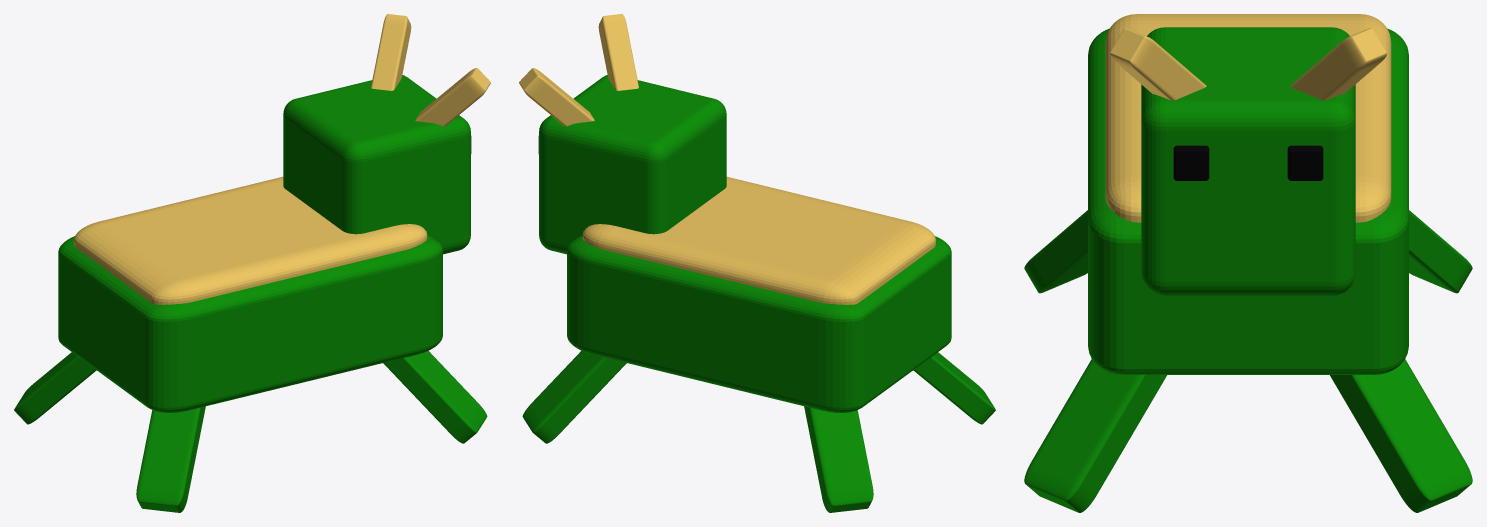
File: Voltick.glb
The picture shows the model from 3 angles, left to right: view 1: azimuth 30°, elevation 25°; view 2: azimuth 150°, elevation 25°; view 3: azimuth 270°, elevation 25°; orthographic projection. The views are drawn at different scales.
Visible parts, largest first — view 1: Voltick; view 2: Voltick; view 3: Voltick.
Boxes of the visible parts, left/top/right/bottom form: Voltick: left=14, top=14, right=490, bottom=512; Voltick: left=519, top=14, right=995, bottom=512; Voltick: left=1024, top=14, right=1472, bottom=512.
Size of the model in its own units: 0.8886 by 0.7651 by 0.6283.
